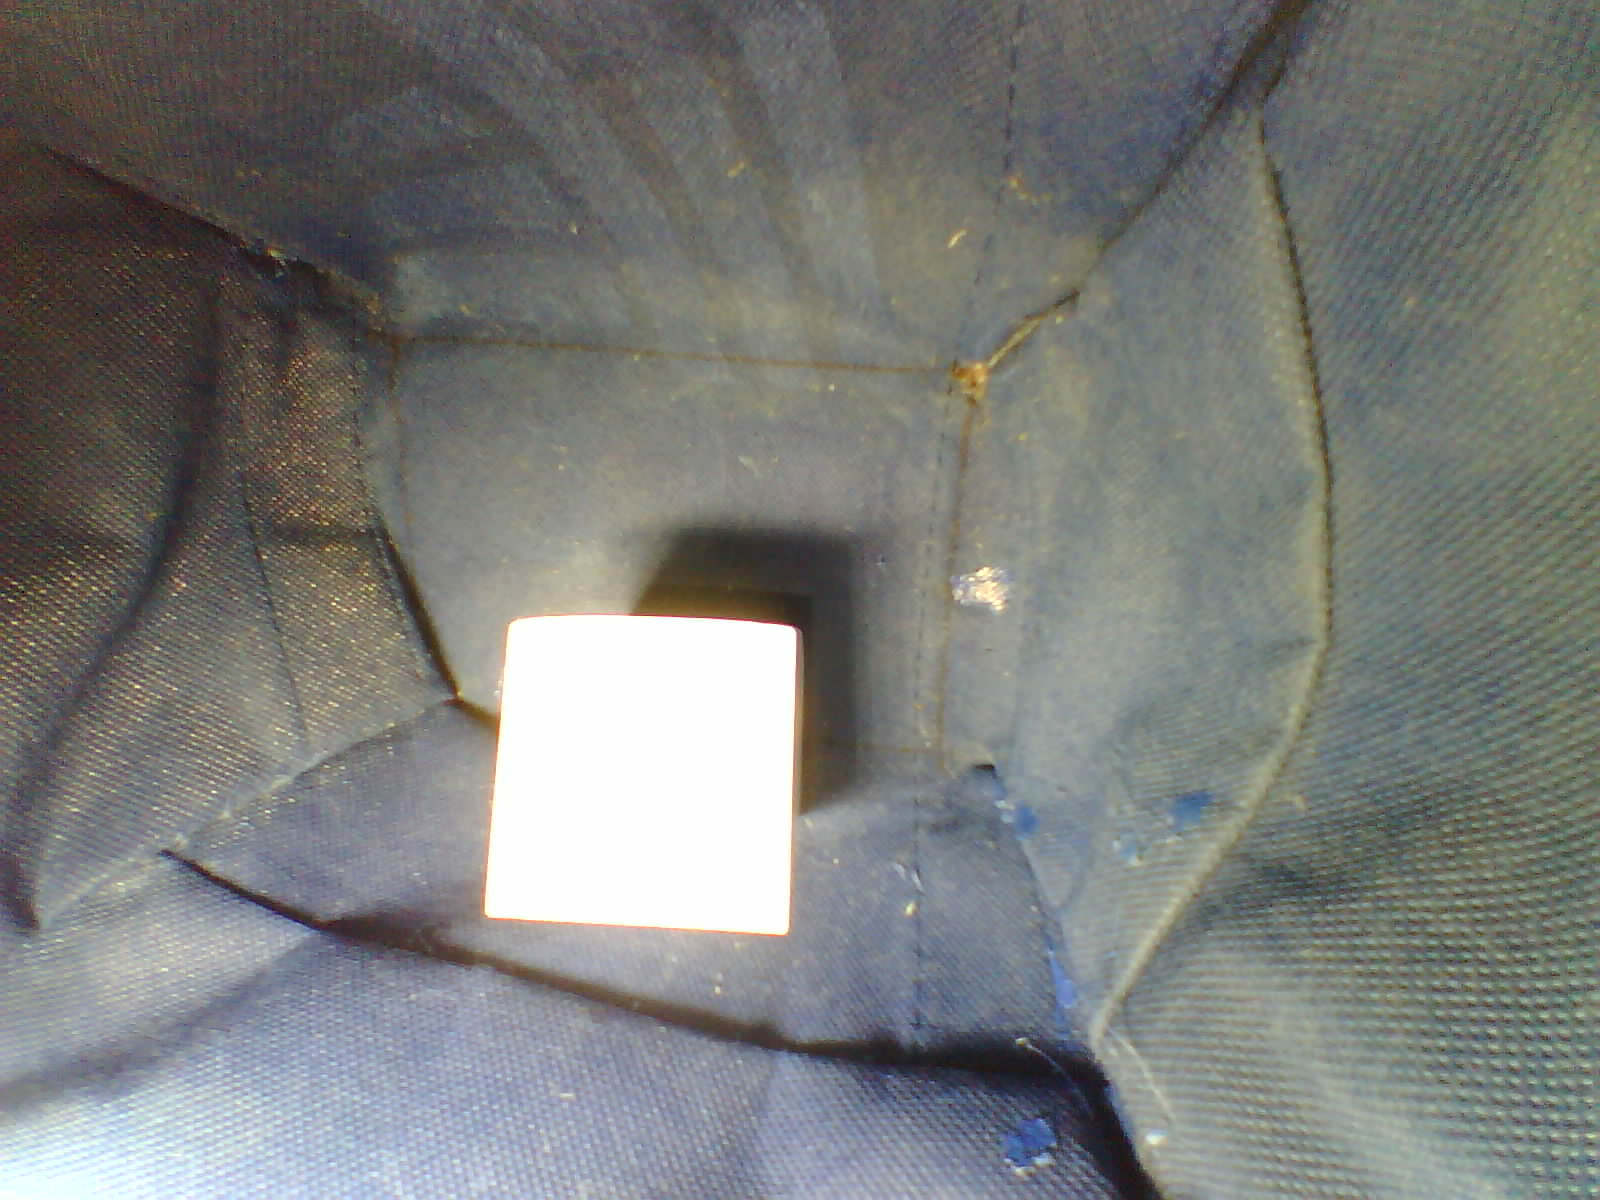cube-hard: (469, 599, 830, 949)
